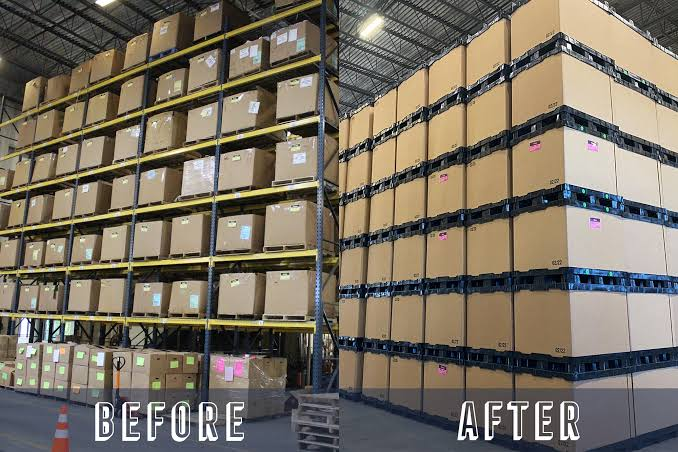box: (515, 373, 628, 451), (516, 287, 624, 356), (509, 56, 614, 116), (521, 214, 621, 271), (510, 0, 616, 52), (517, 136, 613, 193), (132, 353, 202, 416), (259, 204, 336, 259), (221, 355, 282, 419), (267, 267, 330, 317), (465, 292, 514, 349), (466, 22, 508, 83), (472, 371, 513, 433), (635, 372, 678, 430), (464, 157, 510, 208), (617, 149, 660, 203), (423, 363, 466, 415), (629, 292, 671, 345), (216, 145, 266, 189), (622, 217, 661, 273), (425, 50, 466, 103), (219, 89, 272, 129), (276, 79, 325, 122), (0, 336, 37, 392), (423, 229, 466, 276), (471, 222, 508, 275), (618, 91, 658, 137), (467, 89, 505, 137), (427, 170, 466, 214), (392, 357, 424, 409), (170, 215, 209, 257), (39, 341, 69, 395), (274, 140, 315, 179), (218, 276, 254, 319), (135, 221, 170, 265), (421, 111, 462, 148), (130, 279, 167, 320), (172, 276, 206, 319), (393, 290, 421, 342), (364, 288, 390, 343), (217, 214, 255, 250), (89, 44, 124, 82), (196, 1, 229, 41), (137, 170, 176, 203), (230, 38, 263, 77), (99, 225, 130, 265), (394, 86, 426, 124), (273, 25, 302, 66), (147, 110, 176, 150), (70, 181, 103, 216), (153, 14, 184, 50), (183, 158, 213, 195), (361, 352, 386, 396), (335, 342, 360, 386), (117, 77, 147, 113), (88, 87, 116, 125), (338, 294, 362, 338), (67, 279, 93, 318), (373, 137, 397, 179), (365, 241, 390, 281), (98, 276, 125, 313), (369, 91, 395, 129), (343, 245, 365, 289), (396, 233, 417, 279), (186, 56, 223, 82), (110, 174, 136, 210), (343, 112, 370, 146), (81, 138, 109, 170), (346, 153, 369, 191), (187, 107, 216, 137), (31, 112, 62, 140), (114, 127, 138, 162), (155, 75, 188, 99), (5, 202, 31, 232), (372, 188, 390, 230), (46, 239, 73, 265), (1, 238, 21, 273), (74, 229, 95, 262), (345, 199, 363, 236), (21, 78, 41, 111), (21, 237, 42, 268), (34, 149, 52, 182), (41, 279, 57, 313), (55, 188, 72, 220), (65, 102, 82, 132), (70, 61, 86, 92), (32, 192, 48, 223), (60, 145, 77, 173), (47, 76, 65, 99), (2, 282, 18, 307), (15, 162, 32, 185), (92, 389, 108, 408), (92, 368, 107, 387), (75, 364, 88, 382), (74, 351, 88, 366), (74, 384, 85, 403), (92, 350, 103, 368)
